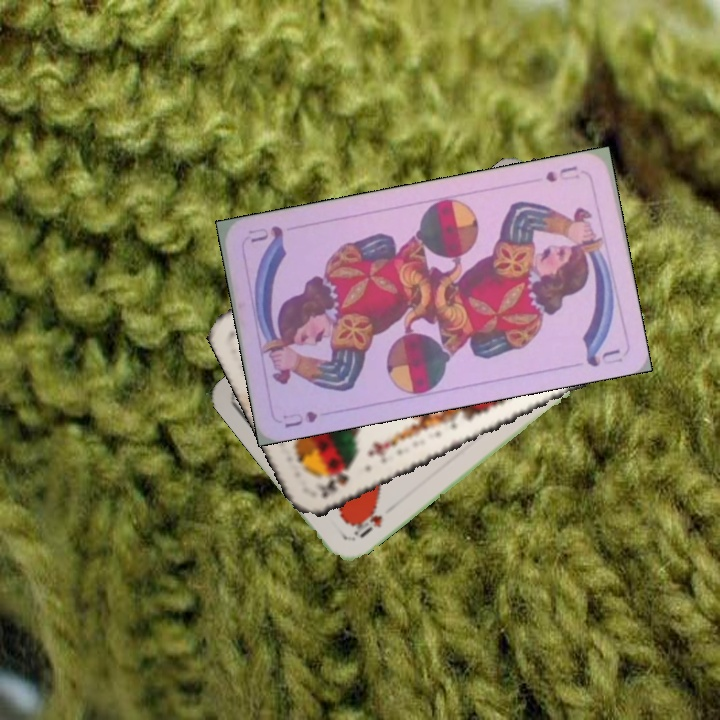HO: (348, 503, 385, 543)
SK: (313, 462, 356, 501)
SU: (278, 407, 320, 431), (542, 161, 583, 185)
